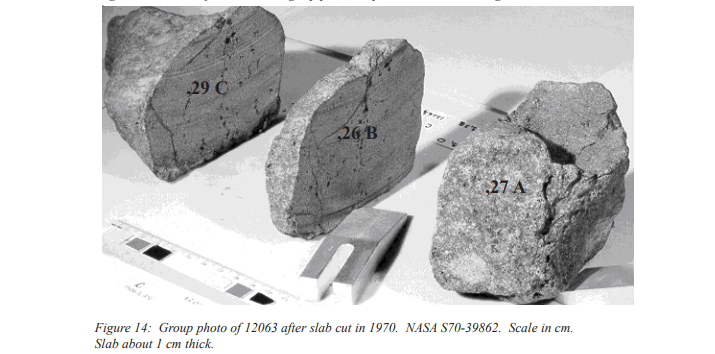Basalt: (439, 71, 625, 292), (266, 28, 425, 225), (497, 63, 625, 303), (101, 4, 250, 172)
